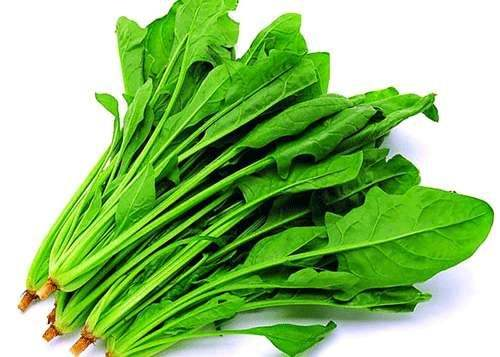bocai: (196, 56, 456, 309), (24, 235, 192, 356)
